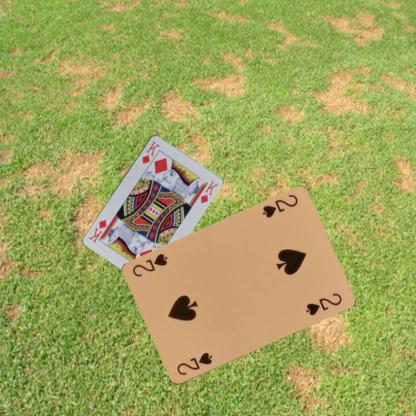2s: (174, 350, 214, 377), (260, 192, 300, 219)
Kd: (139, 138, 161, 165)
